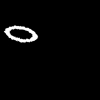chain: (4, 26, 37, 41)
